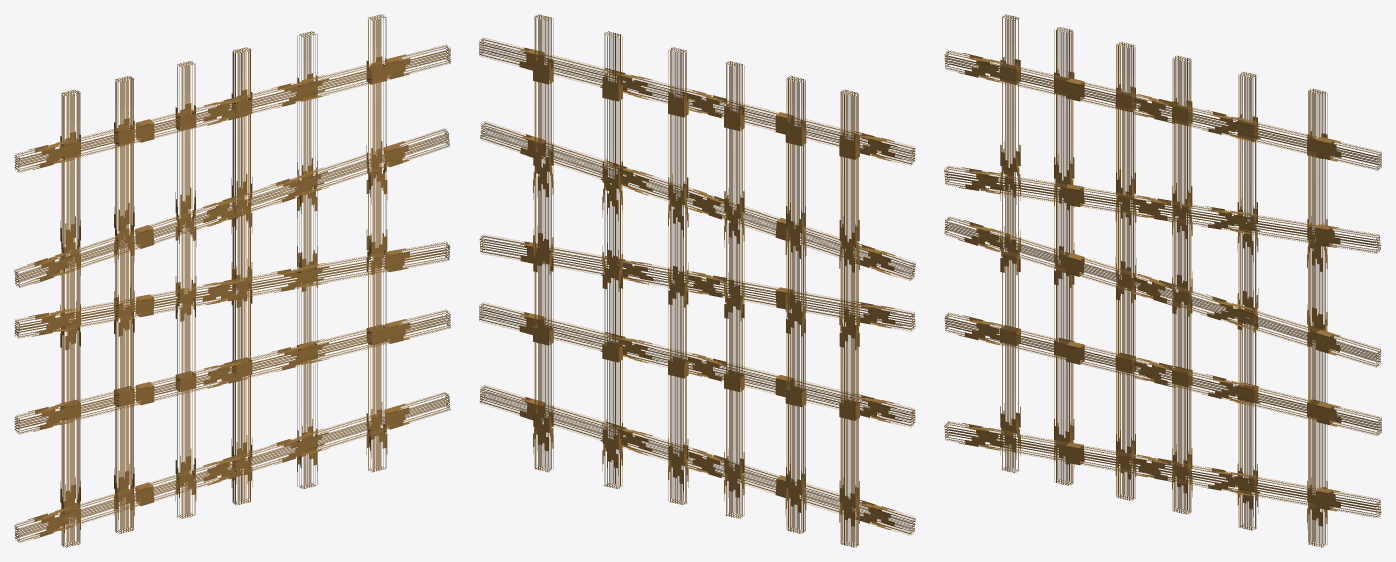
Rendered from BigFence.FBX.
The picture shows the model from 3 angles, left to right: view 1: azimuth 30°, elevation 25°; view 2: azimuth 150°, elevation 25°; view 3: azimuth 330°, elevation 25°; orthographic projection.
Visible parts, largest first — view 1: big_fence; view 2: big_fence; view 3: big_fence.
Part boxes in pixels (x1,y1,x2,y2): big_fence: (14,14,450,547); big_fence: (479,14,915,547); big_fence: (944,14,1381,547).
Size of the model in its own units: 212 by 212 by 8.06.
